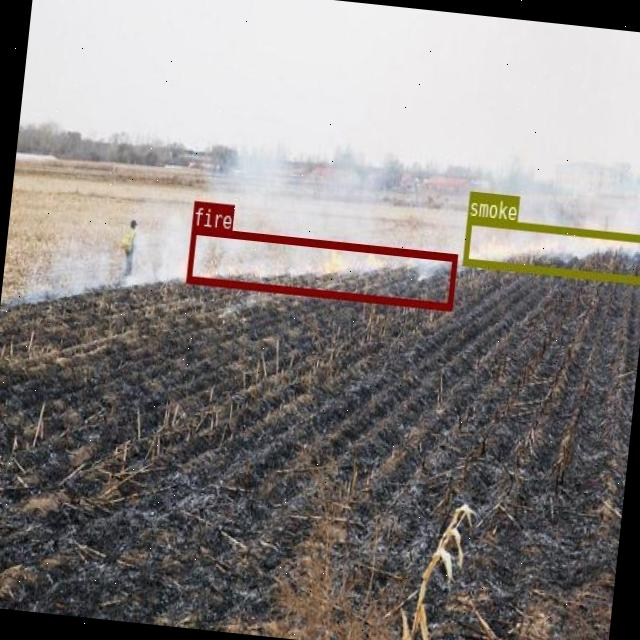fire: (186, 225, 457, 309)
smoke: (461, 215, 640, 284)
